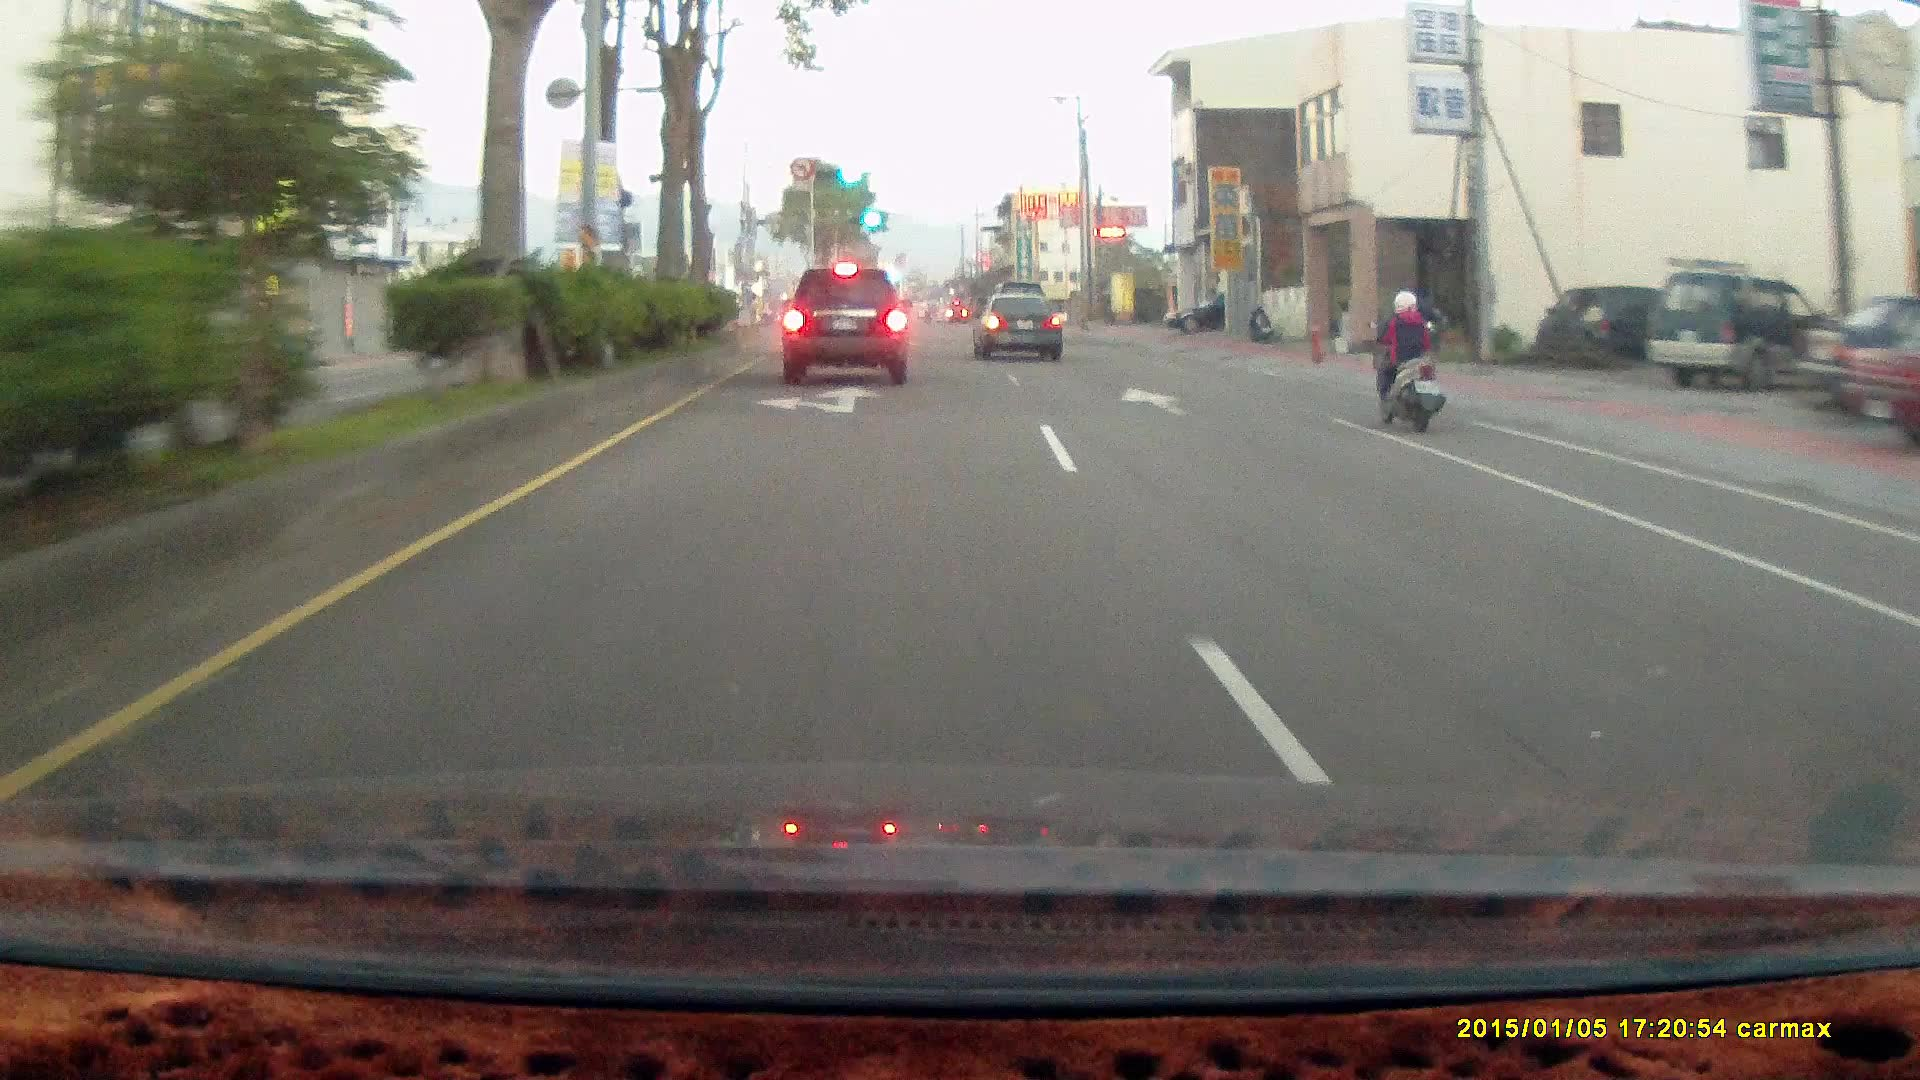rider: (1355, 275, 1458, 442), (1366, 285, 1444, 429)
vehicle: (1644, 269, 1842, 390), (1649, 272, 1832, 393), (783, 254, 915, 377), (779, 264, 908, 383), (1537, 283, 1662, 364), (1840, 322, 1920, 444), (972, 290, 1067, 361), (975, 289, 1061, 354), (1163, 290, 1264, 332), (1163, 289, 1228, 337)
